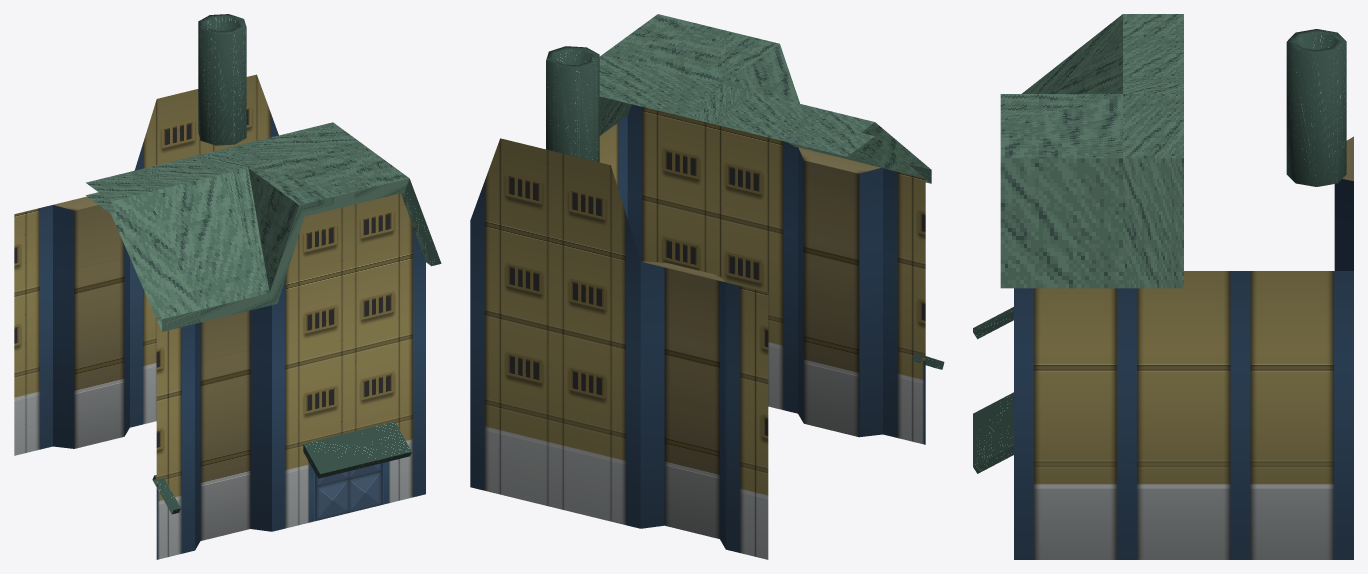
The model's file is hangar.glb.
3 views of the same model, side by side, from view 1: azimuth 30°, elevation 25°; view 2: azimuth 150°, elevation 25°; view 3: azimuth 270°, elevation 25° (orthographic). The views are drawn at different scales.
Visible parts, largest first — view 1: Cube; view 2: Cube; view 3: Cube.
Boxes of the visible parts, x1,y1,x2,y2 form: Cube: (14,14,441,559); Cube: (470,14,944,559); Cube: (973,14,1353,559).
Size of the model in its own units: 3.63 by 4.92 by 3.58.
4 materials, 4 textured.
